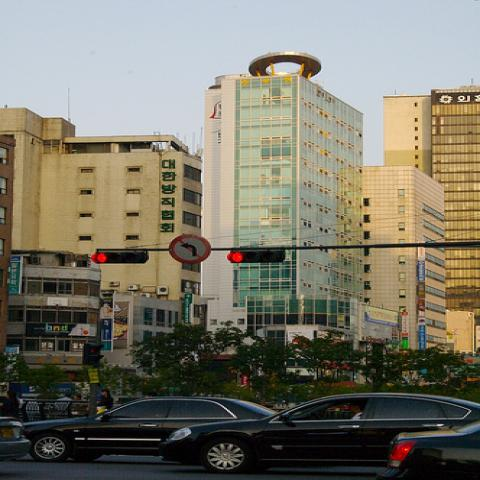car: (156, 392, 479, 474), (23, 397, 273, 460), (380, 423, 479, 479), (0, 415, 32, 463)
